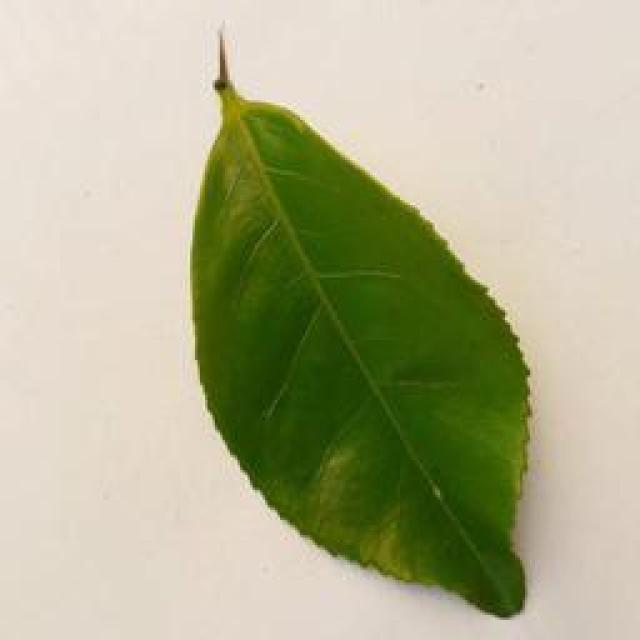Healthy: (189, 89, 539, 626)
